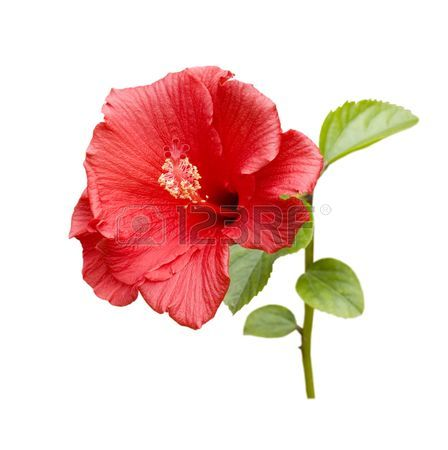Hibiscus: (66, 62, 316, 330)
